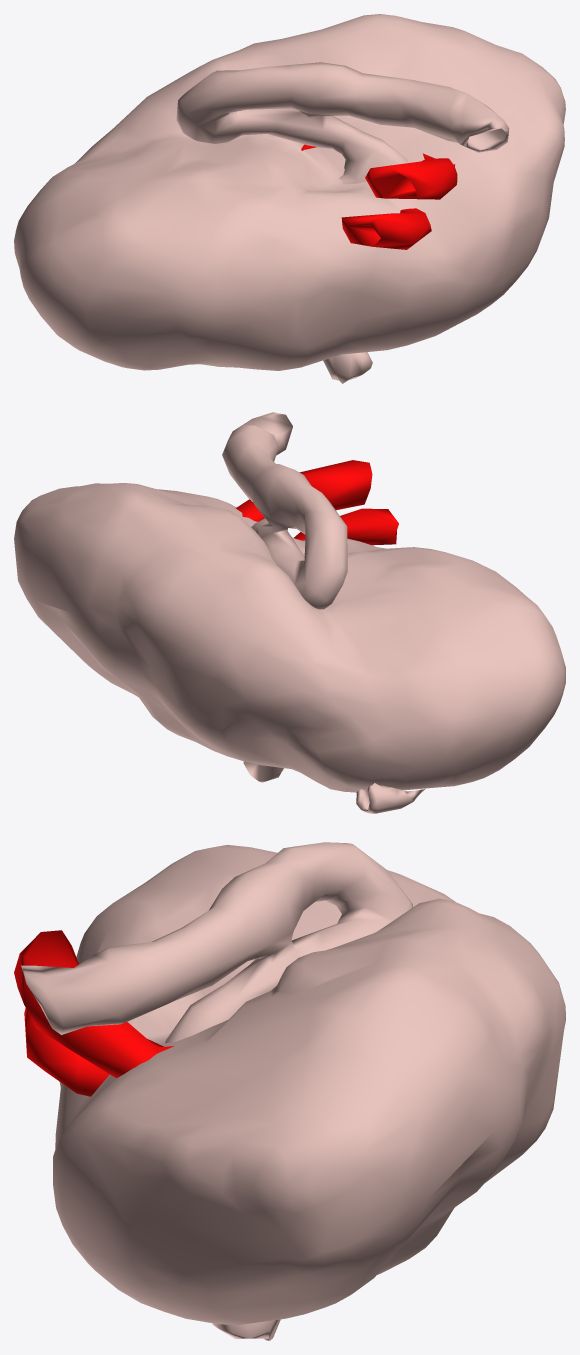
The model's file is nih_f_lymph_node-20.glb.
3 views of the same model, one above another, from view 1: azimuth 30°, elevation 25°; view 2: azimuth 150°, elevation 25°; view 3: azimuth 270°, elevation 25° (orthographic). The views are drawn at different scales.
Visible parts, largest first — view 1: Yao_capsule_of_lymph_node, Yao_efferent_lymph_node, Yao_blood_vasculature, Yao_afferent_lymphatic_vessel; view 2: Yao_capsule_of_lymph_node, Yao_efferent_lymph_node, Yao_blood_vasculature, Yao_afferent_lymphatic_vessel; view 3: Yao_capsule_of_lymph_node, Yao_efferent_lymph_node, Yao_blood_vasculature, Yao_afferent_lymphatic_vessel.
Part boxes in pixels (x1,y1,x2,y2): Yao_capsule_of_lymph_node: [14, 14, 565, 370]; Yao_efferent_lymph_node: [176, 62, 509, 184]; Yao_blood_vasculature: [301, 144, 457, 249]; Yao_afferent_lymphatic_vessel: [323, 352, 372, 383]; Yao_capsule_of_lymph_node: [14, 483, 565, 792]; Yao_efferent_lymph_node: [222, 412, 347, 609]; Yao_blood_vasculature: [236, 460, 398, 545]; Yao_afferent_lymphatic_vessel: [243, 761, 425, 813]; Yao_capsule_of_lymph_node: [53, 844, 565, 1325]; Yao_efferent_lymph_node: [21, 842, 412, 1043]; Yao_blood_vasculature: [14, 930, 174, 1096]; Yao_afferent_lymphatic_vessel: [212, 1319, 280, 1340].
Size of the model in its own units: 0.0196 by 0.0113 by 0.0125.
